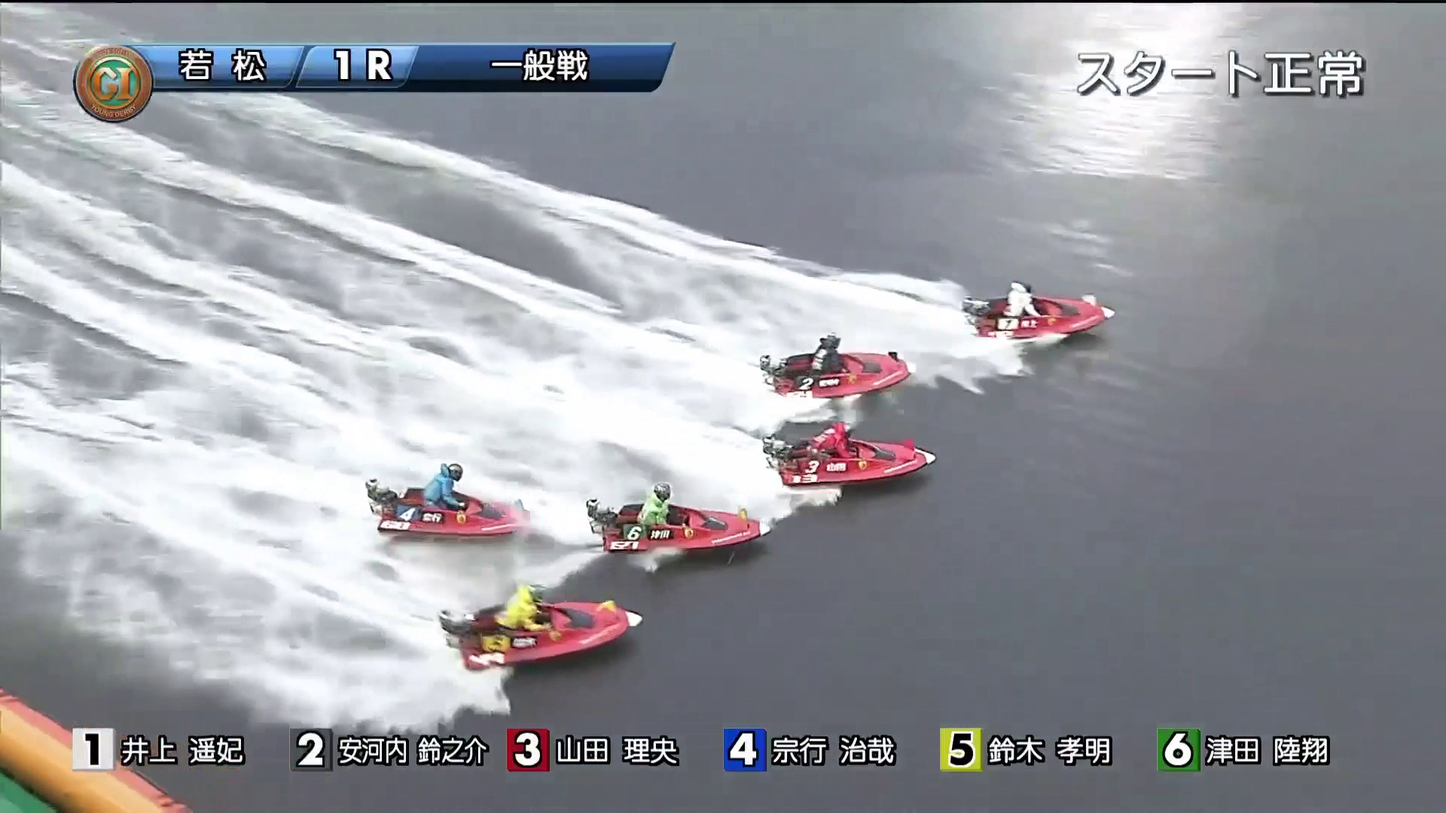１号艇: (987, 286, 1125, 339)
２号艇: (772, 336, 901, 396)
３号艇: (797, 430, 937, 476)
４号艇: (611, 492, 731, 557)
５号艇: (378, 491, 502, 546)
６号艇: (515, 613, 614, 670)
